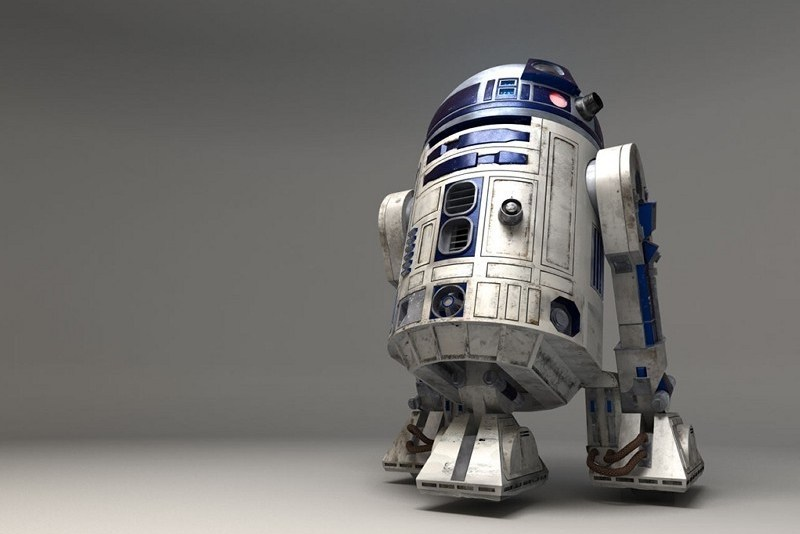r2d2: (377, 59, 705, 502)
